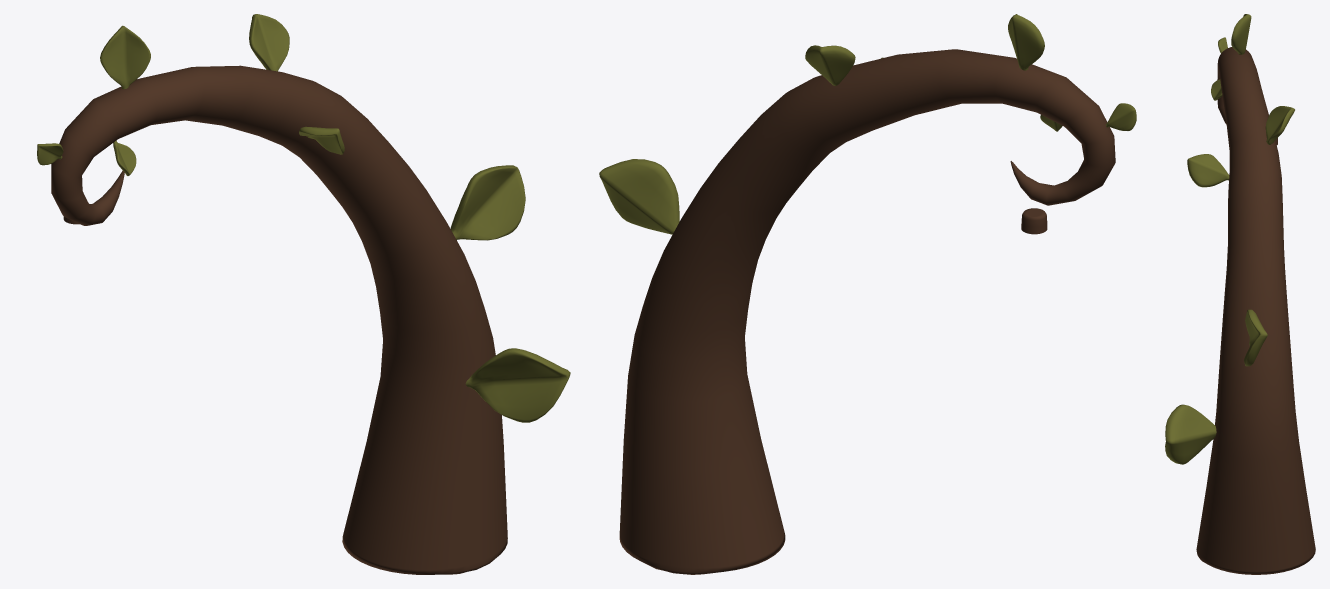
Rendered from PT_PoisonTree-All-02.fbx.
3 views of the same model, side by side, from view 1: azimuth 30°, elevation 25°; view 2: azimuth 150°, elevation 25°; view 3: azimuth 270°, elevation 25° (orthographic). The views are drawn at different scales.
Parts seen in each view (by area): view 1: PT_branchthiny, PT_leaf7, PT_leaf1, PT_leaf2, PT_leaf4, PT_leaf3; view 2: PT_branchthiny, PT_leaf1, PT_leaf4, PT_leaf2; view 3: PT_branchthiny, PT_leaf7, PT_leaf3, PT_leaf1, PT_leaf4, PT_leaf2.
Part boxes in pixels (bbox=[...]): PT_branchthiny: bbox=[51, 65, 507, 574]; PT_leaf7: bbox=[465, 348, 570, 422]; PT_leaf1: bbox=[450, 165, 525, 240]; PT_leaf2: bbox=[100, 25, 150, 89]; PT_leaf4: bbox=[249, 14, 289, 71]; PT_leaf3: bbox=[299, 126, 344, 154]; PT_branchthiny: bbox=[619, 49, 1115, 574]; PT_leaf1: bbox=[599, 159, 679, 234]; PT_leaf4: bbox=[805, 45, 855, 85]; PT_leaf2: bbox=[1008, 14, 1044, 70]; PT_branchthiny: bbox=[1196, 47, 1315, 574]; PT_leaf7: bbox=[1165, 404, 1216, 464]; PT_leaf3: bbox=[1187, 154, 1229, 187]; PT_leaf1: bbox=[1244, 309, 1267, 366]; PT_leaf4: bbox=[1265, 106, 1294, 144]; PT_leaf2: bbox=[1231, 14, 1251, 54].
Size of the model in its own units: 6.16 by 6.93 by 2.2.
